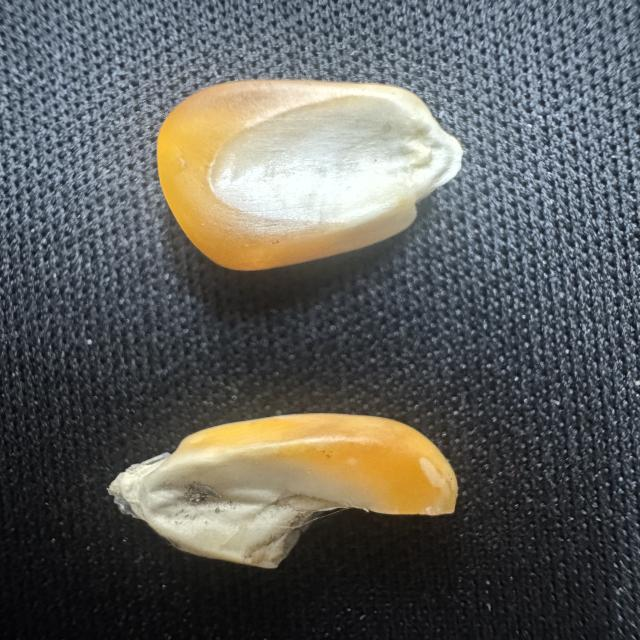Bad-Seed: (100, 410, 478, 576)
Good-Seed: (138, 65, 485, 288)
